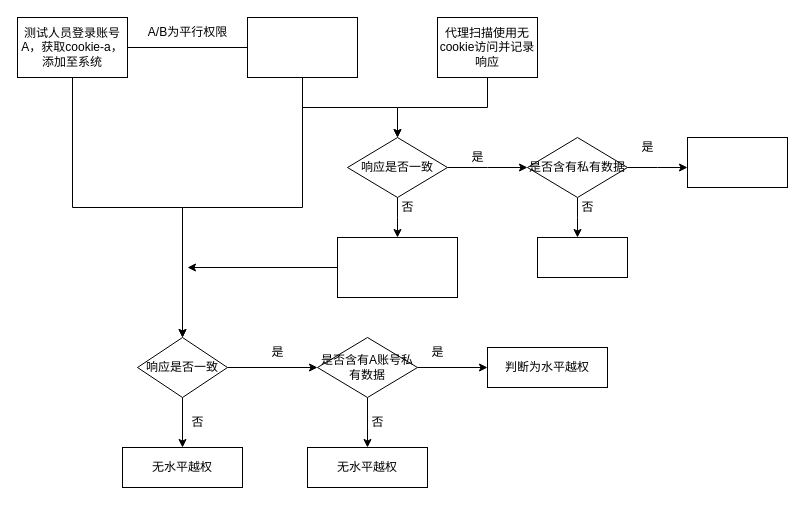
Image size: 805x505. Some labels were removed from this diagram. Here are the shapes that lost their labels. From the top down, the centre of each, then its label:
the point at 302,47: 测试人员登录账号B，访问各功能点，代理扫描记录响应
the point at 737,162: 判断为未授权访问
the point at 397,267: 无未授权问题，进入越权检测
the point at 582,257: 公共页面无漏洞
